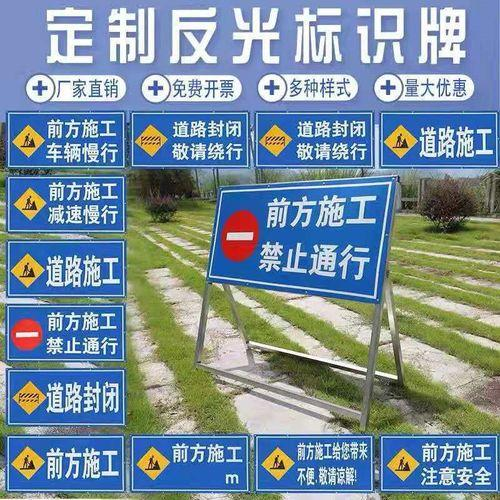sign: (216, 192, 387, 292), (380, 438, 500, 497), (6, 304, 125, 362), (9, 241, 126, 296), (257, 114, 373, 169), (133, 435, 246, 491), (7, 113, 124, 167), (382, 113, 499, 167), (255, 436, 371, 490), (9, 370, 124, 423), (133, 115, 247, 168), (8, 436, 124, 488), (9, 178, 124, 230)
